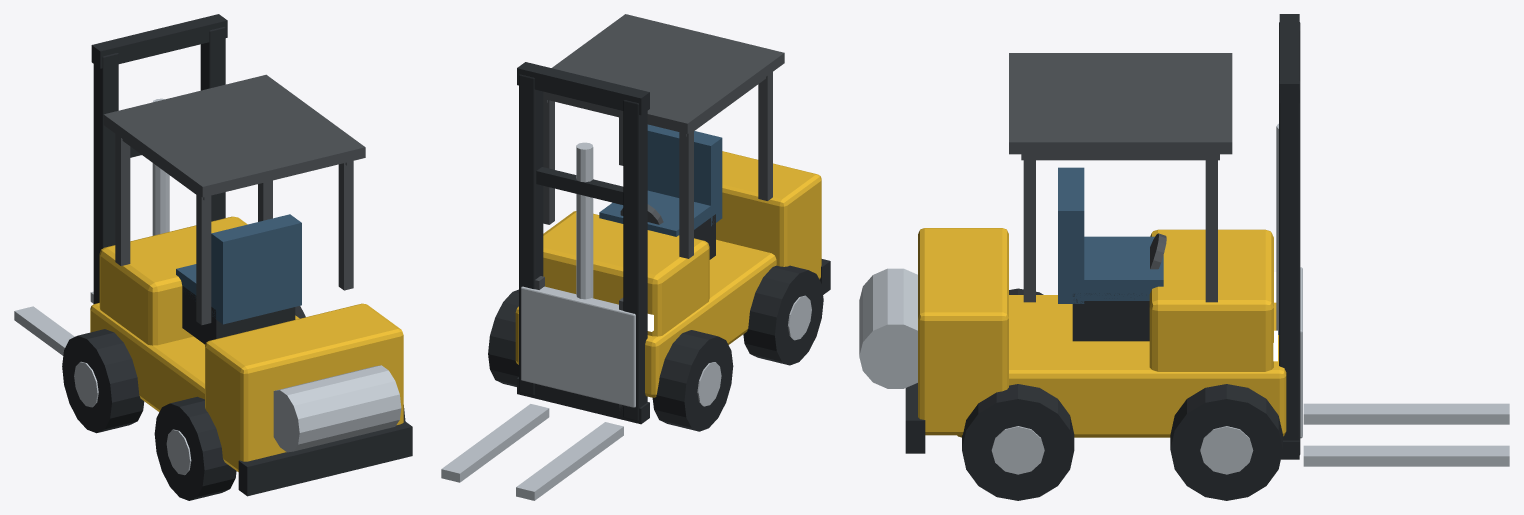
The model's file is forklift.glb.
3 renders of one model, left to right at view 1: azimuth 30°, elevation 25°; view 2: azimuth 150°, elevation 25°; view 3: azimuth 270°, elevation 25°, orthographic. The views are drawn at different scales.
Parts seen in each view (by area): view 1: ForkliftGuardRoof, ForkliftCounterweight, ForkliftHood, ForkliftSeatBack, ForkliftTank, ForkliftBumper, ForkliftWheel.001, ForkliftChassis, ForkliftWheel, ForkliftMastRail, ForkliftMastTop, ForkliftSeatBase (+10 smaller); view 2: ForkliftGuardRoof, ForkliftBackplate, ForkliftHood, ForkliftCounterweight, ForkliftChassis, ForkliftMastRail, ForkliftWheel.001, ForkliftWheel, ForkliftMastRail.001, ForkliftSeatBack, ForkliftMastTop, ForkliftMastCylinder (+12 smaller); view 3: ForkliftGuardRoof, ForkliftChassis, ForkliftCounterweight, ForkliftHood, ForkliftWheel.003, ForkliftWheel.002, ForkliftMastRail.001, ForkliftTank, ForkliftSeatCushion, ForkliftFork, ForkliftFork.001, ForkliftSeatBack (+8 smaller).
Boxes of the visible parts, x1=… form: ForkliftGuardRoof: x1=103, y1=74, x2=365, y2=197; ForkliftCounterweight: x1=205, y1=303, x2=403, y2=471; ForkliftHood: x1=99, y1=216, x2=247, y2=345; ForkliftSeatBack: x1=211, y1=214, x2=301, y2=324; ForkliftTank: x1=273, y1=365, x2=401, y2=452; ForkliftBumper: x1=238, y1=420, x2=412, y2=496; ForkliftWheel.001: x1=62, y1=329, x2=144, y2=433; ForkliftChassis: x1=90, y1=303, x2=299, y2=411; ForkliftWheel: x1=154, y1=396, x2=236, y2=500; ForkliftMastRail: x1=93, y1=53, x2=118, y2=303; ForkliftMastTop: x1=91, y1=14, x2=227, y2=68; ForkliftSeatBase: x1=182, y1=285, x2=295, y2=344; ForkliftGuardRoof: x1=543, y1=14, x2=784, y2=133; ForkliftBackplate: x1=521, y1=286, x2=635, y2=407; ForkliftHood: x1=543, y1=211, x2=709, y2=336; ForkliftCounterweight: x1=716, y1=151, x2=821, y2=279; ForkliftChassis: x1=515, y1=239, x2=776, y2=397; ForkliftMastRail: x1=623, y1=100, x2=647, y2=421; ForkliftWheel.001: x1=652, y1=330, x2=733, y2=431; ForkliftWheel: x1=743, y1=265, x2=823, y2=365; ForkliftMastRail.001: x1=519, y1=74, x2=543, y2=395; ForkliftSeatBack: x1=647, y1=124, x2=722, y2=226; ForkliftMastTop: x1=517, y1=62, x2=649, y2=115; ForkliftMastCylinder: x1=576, y1=142, x2=593, y2=299; ForkliftGuardRoof: x1=1009, y1=53, x2=1232, y2=154; ForkliftChassis: x1=957, y1=295, x2=1286, y2=437; ForkliftCounterweight: x1=918, y1=228, x2=1008, y2=435; ForkliftHood: x1=1149, y1=229, x2=1273, y2=371; ForkliftWheel.003: x1=1170, y1=384, x2=1282, y2=500; ForkliftWheel.002: x1=962, y1=384, x2=1074, y2=500; ForkliftMastRail.001: x1=1279, y1=81, x2=1300, y2=454; ForkliftTank: x1=859, y1=268, x2=917, y2=388; ForkliftSeatCushion: x1=1077, y1=236, x2=1163, y2=300; ForkliftFork: x1=1303, y1=403, x2=1493, y2=424; ForkliftFork.001: x1=1303, y1=445, x2=1493, y2=466; ForkliftSeatBack: x1=1058, y1=167, x2=1084, y2=303.
Size of the model in its own units: 1.6 by 2.64 by 3.93.
